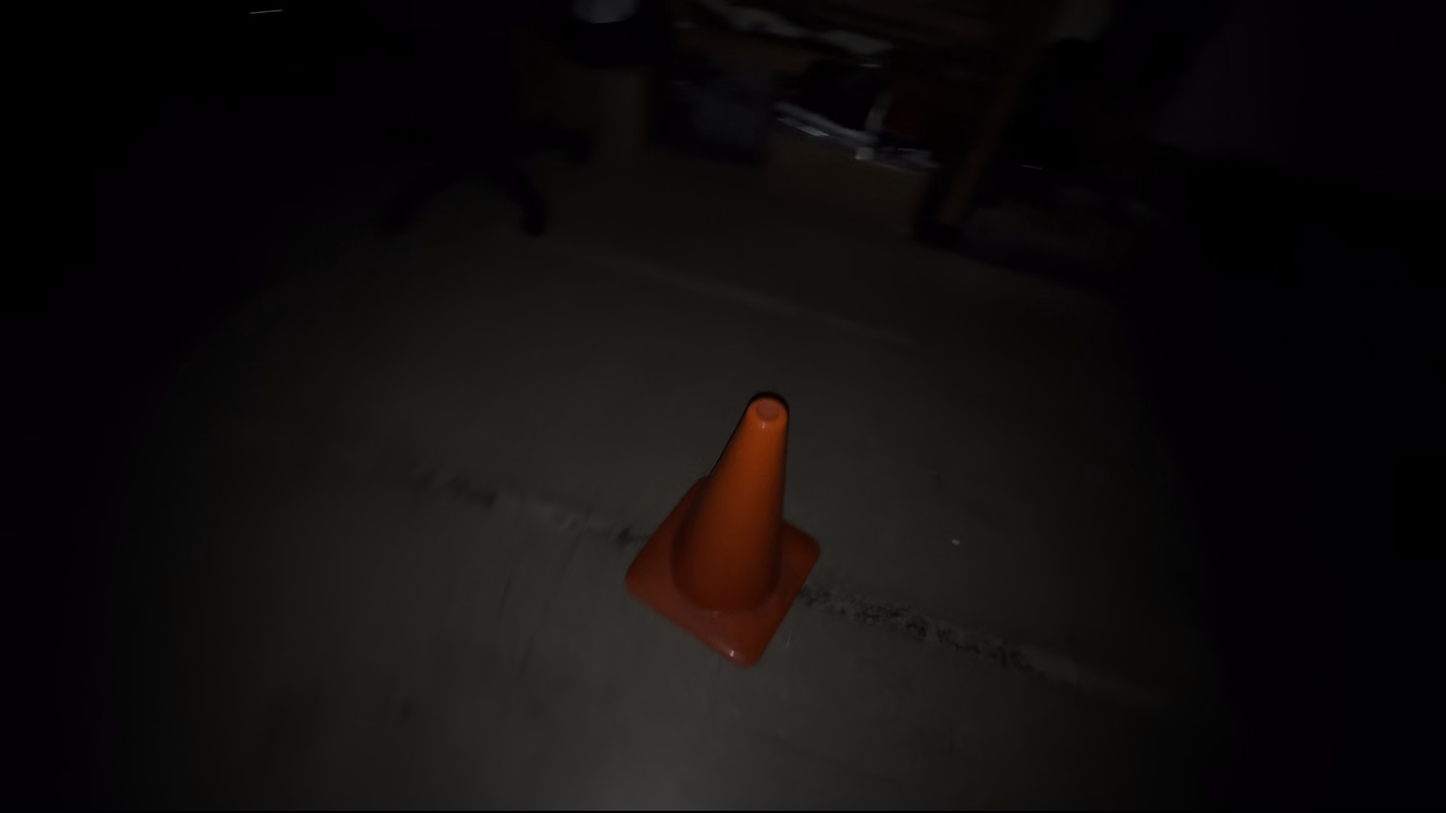traffic_cone: (623, 389, 822, 668)
